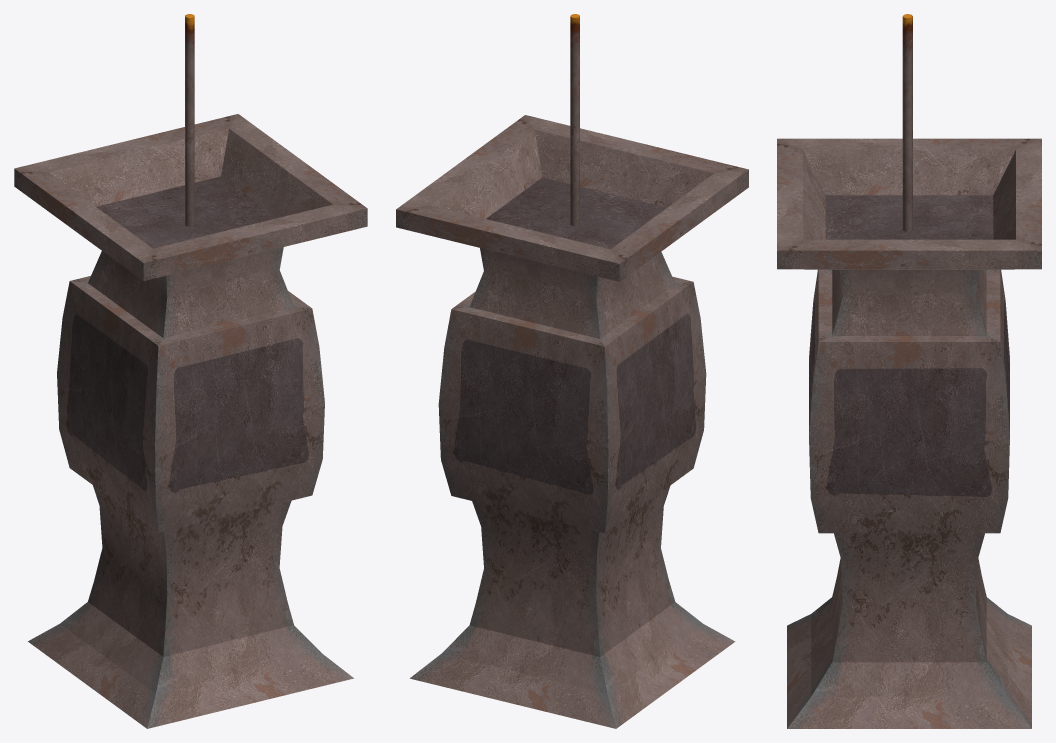
Rendered from Censer_2.FBX.
The picture shows the model from 3 angles, left to right: view 1: azimuth 30°, elevation 25°; view 2: azimuth 150°, elevation 25°; view 3: azimuth 270°, elevation 25°; orthographic projection. The views are drawn at different scales.
Visible parts, largest first — view 1: Censer_2; view 2: Censer_2; view 3: Censer_2.
Boxes of the visible parts, x1,y1,x2,y2 form: Censer_2: [14, 14, 367, 728]; Censer_2: [396, 14, 748, 728]; Censer_2: [777, 14, 1041, 728].
Bounding box in the file's own units: 8.37 × 23.02 × 8.37.
